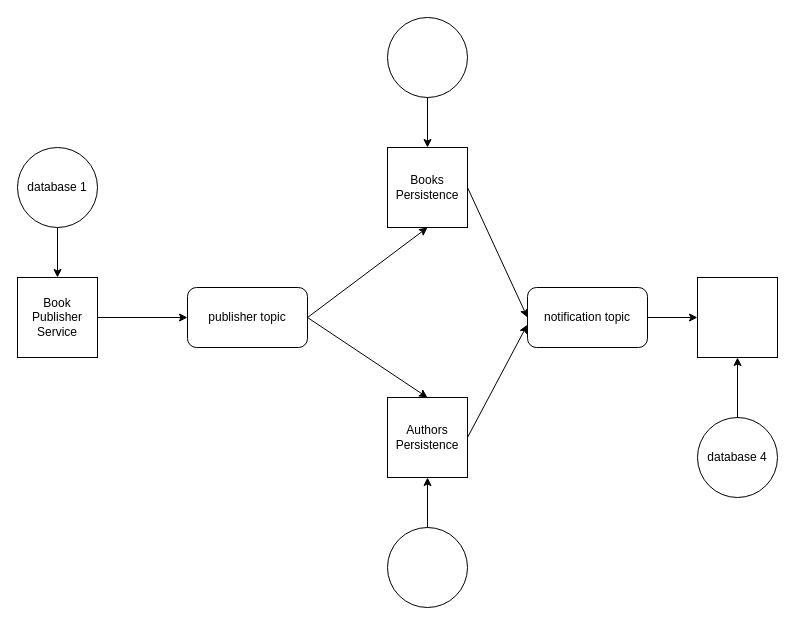
This 795x625 diagram has some shape labels left out. The centre of each missing label's shape, as x and y in pixels:
"database 2" belongs at [427,567].
"database 3" belongs at [427,57].
"Notifications Service" belongs at [737,317].
